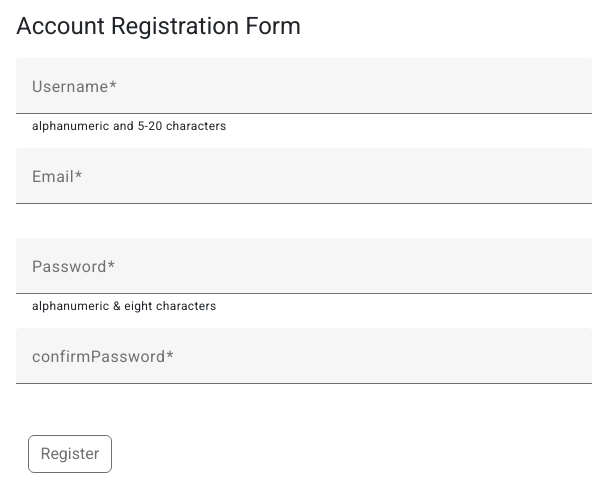
Test: AccountRegistrationComponent › form completion and submission › username control › should show Username pattern validation messages when input is pattern
Step 1. Type "!!!a%%" into the field with placeholder "username" → {"x": 304, "y": 94}, box [32, 82, 576, 106]
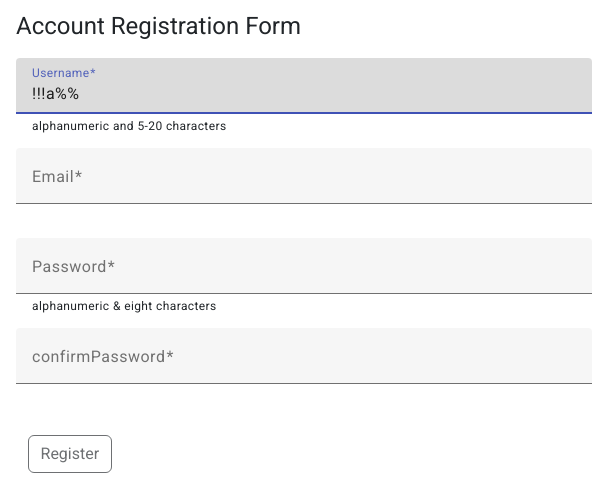
Step 2. Leave the 1st field, box [32, 82, 576, 106]
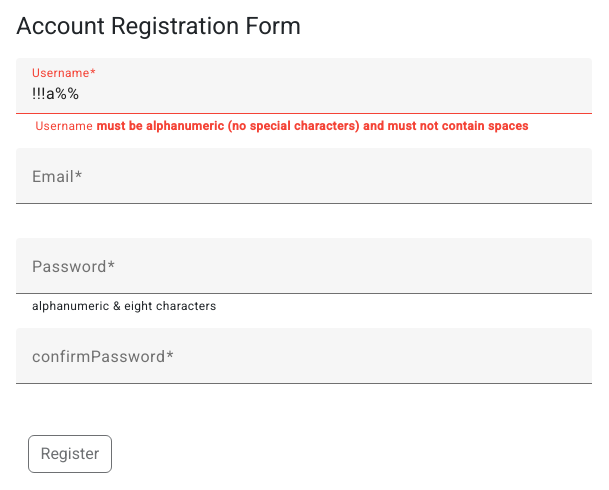
Expected: the element that starts with "Username" shows "Username must be alphanumeric (no special characters) and must not contain spaces", [32, 114, 576, 136]
